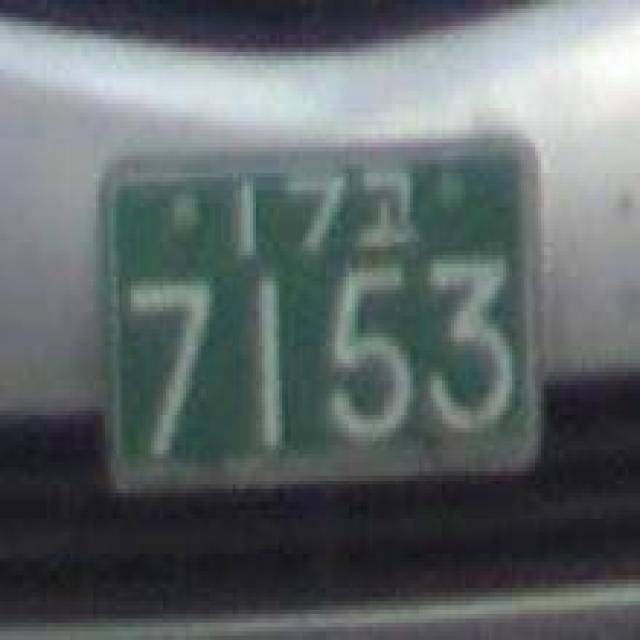illegal_plate: (77, 118, 560, 513)
